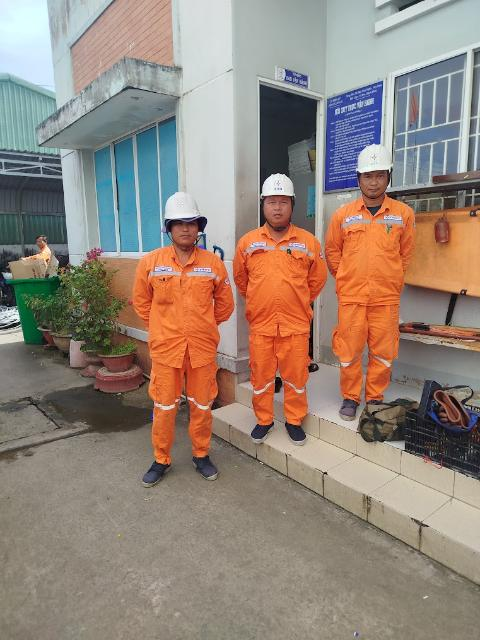helmet: (158, 180, 211, 226), (248, 166, 299, 203), (353, 139, 402, 174)
shoes: (137, 450, 172, 495), (191, 453, 227, 488), (237, 418, 274, 448), (280, 415, 308, 446), (335, 395, 363, 421)
